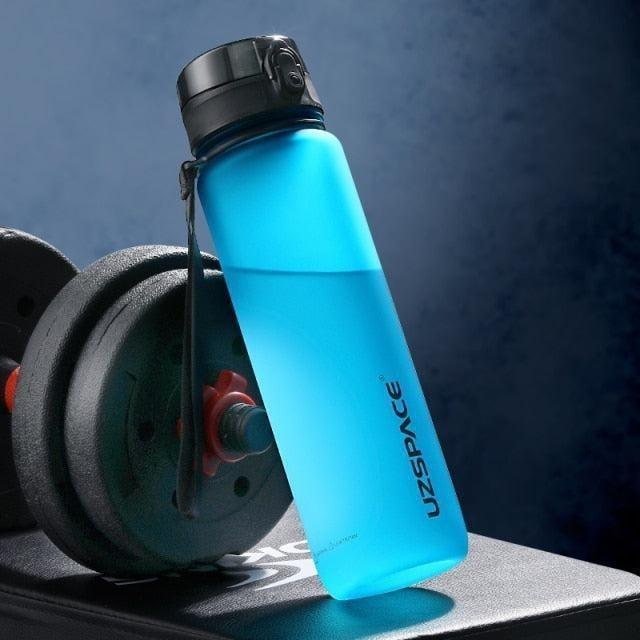gym bottle: (176, 34, 471, 602)
